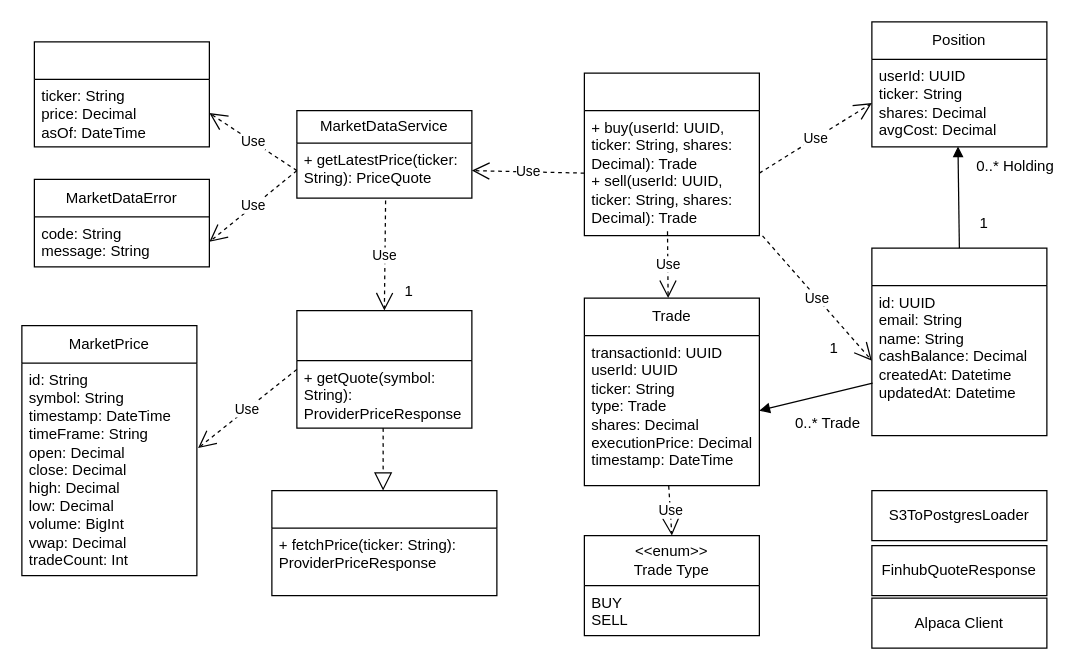
The diagram is 1081 pixels wide and 670 high, and some of its shapes have lost their labels. The box of each missing label's shape, as (x1, y1, x2, y2) in pixels:
<<interface>> MarketDataProvider: (296, 309, 472, 428)
PostgresMarketDataProvider: (271, 489, 497, 596)
PriceQuote: (33, 41, 209, 147)
TradeService: (583, 72, 759, 236)
User: (871, 247, 1047, 436)
